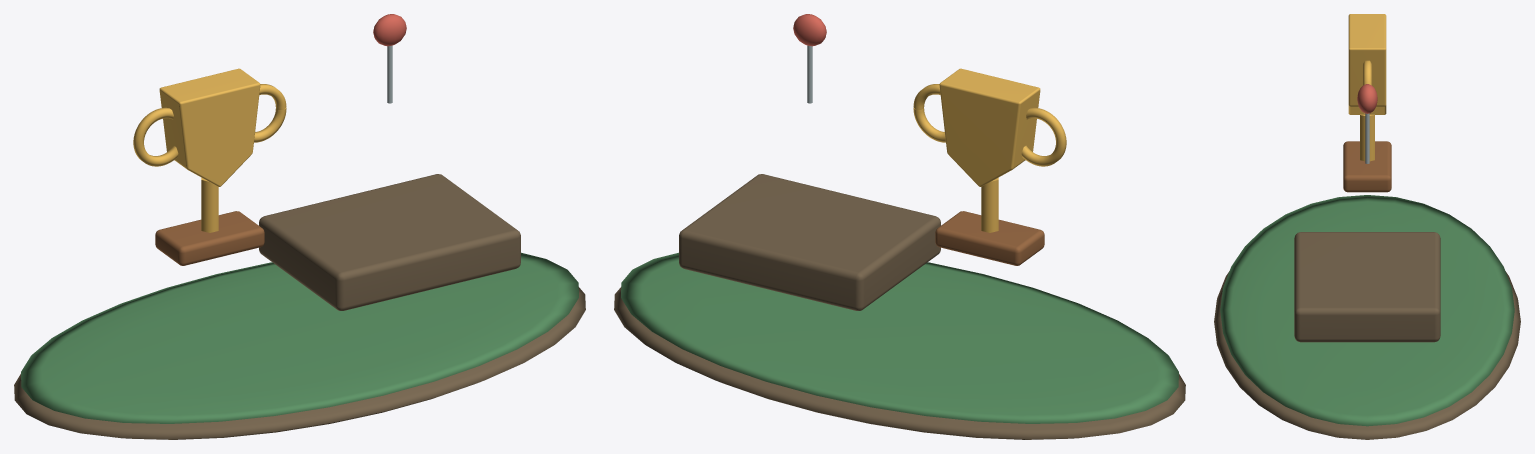
The model's file is complete-first-at-this-place.glb.
3 renders of one model, left to right at view 1: azimuth 30°, elevation 25°; view 2: azimuth 150°, elevation 25°; view 3: azimuth 270°, elevation 25°, orthographic. The views are drawn at different scales.
Visible parts, largest first — view 1: complete-first-at-this-place_surface_01, complete-first-at-this-place_surface_00, complete-first-at-this-place_surface_02, complete-first-at-this-place_surface_03, complete-first-at-this-place_surface_05; view 2: complete-first-at-this-place_surface_01, complete-first-at-this-place_surface_00, complete-first-at-this-place_surface_02, complete-first-at-this-place_surface_03, complete-first-at-this-place_surface_05; view 3: complete-first-at-this-place_surface_01, complete-first-at-this-place_surface_00, complete-first-at-this-place_surface_02, complete-first-at-this-place_surface_03, complete-first-at-this-place_surface_05.
Boxes of the visible parts, bbox=[...] form: complete-first-at-this-place_surface_01: bbox=[21, 252, 578, 423]; complete-first-at-this-place_surface_00: bbox=[14, 174, 585, 439]; complete-first-at-this-place_surface_02: bbox=[133, 68, 286, 232]; complete-first-at-this-place_surface_03: bbox=[155, 211, 264, 265]; complete-first-at-this-place_surface_05: bbox=[373, 14, 406, 46]; complete-first-at-this-place_surface_01: bbox=[621, 252, 1178, 423]; complete-first-at-this-place_surface_00: bbox=[614, 174, 1185, 439]; complete-first-at-this-place_surface_02: bbox=[913, 68, 1066, 232]; complete-first-at-this-place_surface_03: bbox=[935, 211, 1044, 265]; complete-first-at-this-place_surface_05: bbox=[793, 14, 826, 46]; complete-first-at-this-place_surface_01: bbox=[1220, 195, 1514, 426]; complete-first-at-this-place_surface_00: bbox=[1214, 232, 1520, 439]; complete-first-at-this-place_surface_02: bbox=[1348, 14, 1386, 161]; complete-first-at-this-place_surface_03: bbox=[1343, 141, 1391, 192]; complete-first-at-this-place_surface_05: bbox=[1357, 84, 1377, 113].
Size of the model in its own units: 4.56 by 2.6 by 2.5.
